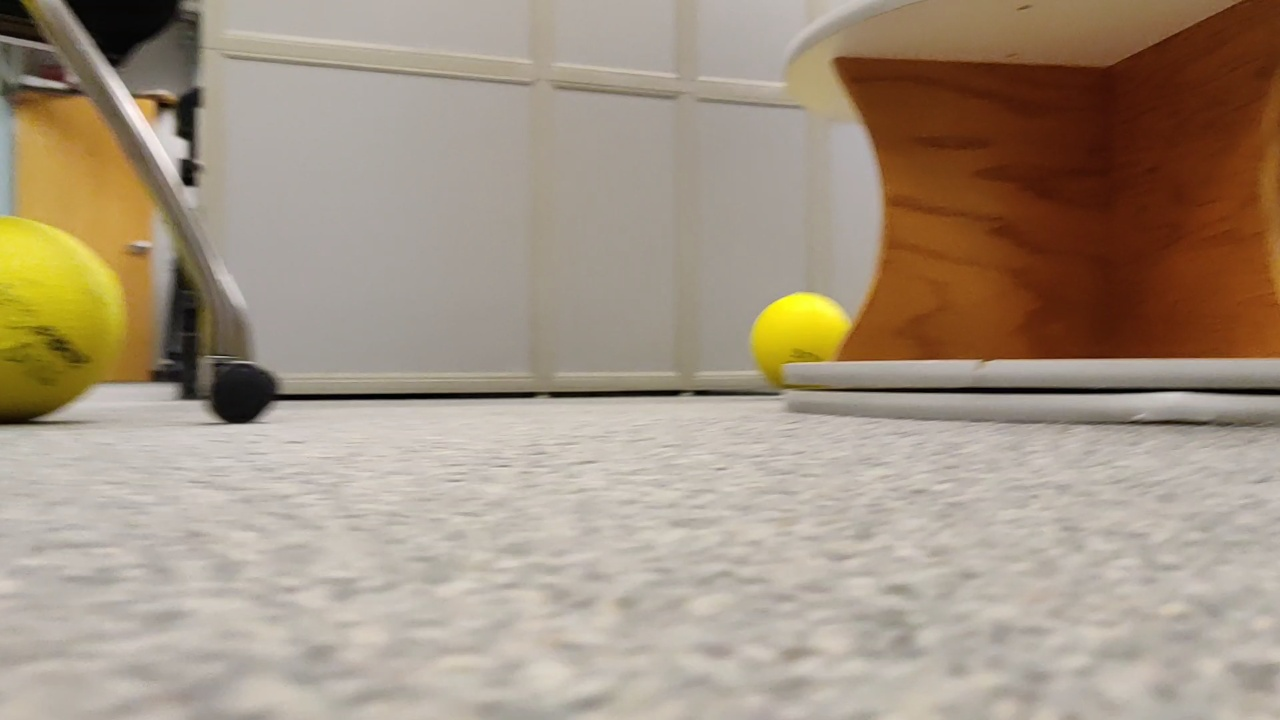Ball: (8, 224, 124, 418), (744, 288, 845, 388)
